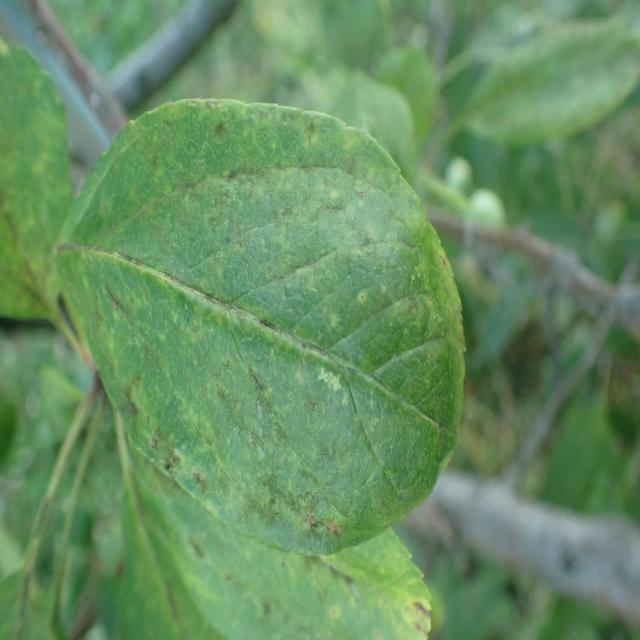scab: (57, 91, 464, 542), (95, 542, 448, 640)
